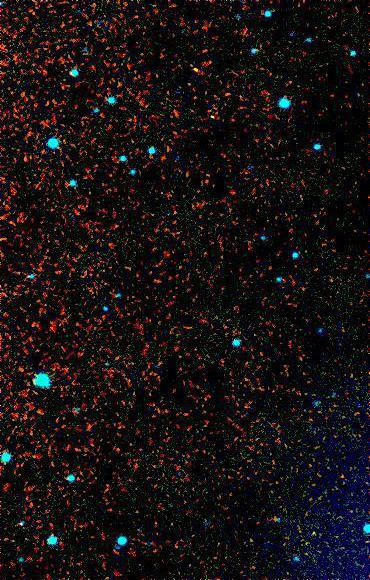star: (300, 519, 330, 549)
